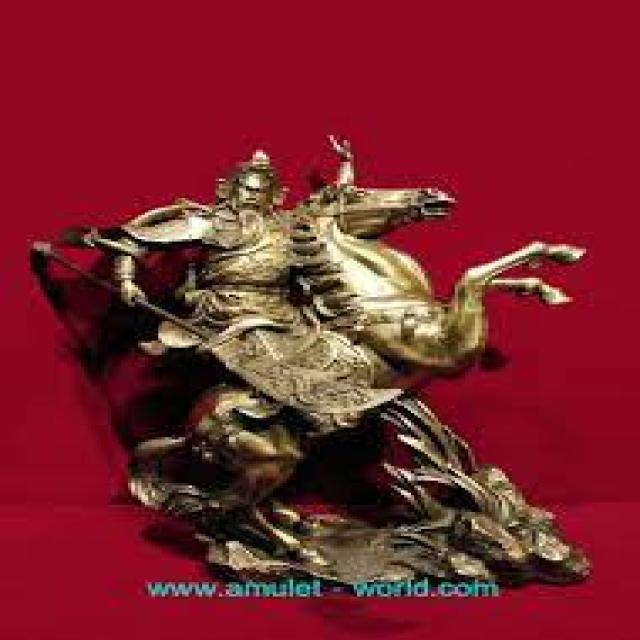Guan Yu: (175, 143, 307, 327)
